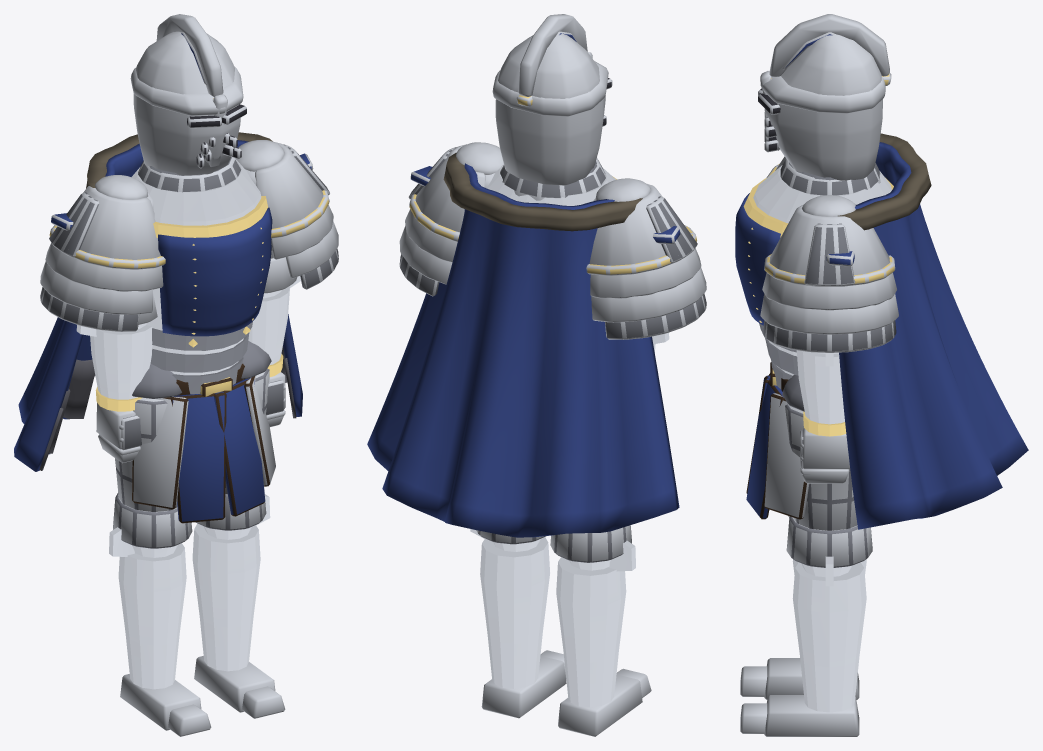
File: knight_warden.glb
3 views of the same model, side by side, from view 1: azimuth 30°, elevation 25°; view 2: azimuth 150°, elevation 25°; view 3: azimuth 270°, elevation 25° (orthographic). The views are drawn at different scales.
Parts seen in each view (by area): view 1: M_Torso, M_Head, M_Hips, M_ArmR_Upper, M_Cloak, M_ArmL_Upper, M_LegR_Lower, M_LegL_Lower, M_LegR_Upper, M_ArmR_Lower, M_FootR, M_FootL (+4 smaller); view 2: M_Cloak, M_Head, M_ArmR_Upper, M_LegR_Lower, M_LegL_Lower, M_ArmL_Upper, M_FootR, M_FootL, M_LegR_Upper, M_Torso; view 3: M_Cloak, M_Head, M_ArmL_Upper, M_LegL_Lower, M_Torso, M_LegL_Upper, M_Hips, M_FootL, M_ArmL_Lower, M_HandL, M_FootR.
Part boxes in pixels (x1=…): M_Torso: x1=131, y1=158, x2=272, y2=394; M_Head: x1=130, y1=14, x2=246, y2=192; M_Hips: x1=132, y1=363, x2=275, y2=523; M_ArmR_Upper: x1=40, y1=175, x2=165, y2=331; M_Cloak: x1=14, y1=132, x2=302, y2=471; M_ArmL_Upper: x1=235, y1=140, x2=338, y2=293; M_LegR_Lower: x1=109, y1=527, x2=186, y2=689; M_LegL_Lower: x1=192, y1=494, x2=270, y2=671; M_LegR_Upper: x1=113, y1=363, x2=192, y2=548; M_ArmR_Lower: x1=76, y1=323, x2=152, y2=411; M_FootR: x1=120, y1=674, x2=211, y2=736; M_FootL: x1=194, y1=656, x2=285, y2=718; M_Cloak: x1=367, y1=152, x2=679, y2=537; M_Head: x1=492, y1=14, x2=612, y2=200; M_ArmR_Upper: x1=586, y1=178, x2=706, y2=339; M_LegR_Lower: x1=556, y1=540, x2=635, y2=707; M_LegL_Lower: x1=470, y1=529, x2=549, y2=688; M_ArmL_Upper: x1=399, y1=142, x2=503, y2=296; M_FootR: x1=558, y1=668, x2=651, y2=736; M_FootL: x1=481, y1=650, x2=566, y2=718; M_LegR_Upper: x1=550, y1=525, x2=631, y2=562; M_Torso: x1=486, y1=162, x2=616, y2=205; M_Cloak: x1=838, y1=133, x2=1028, y2=529; M_Head: x1=758, y1=14, x2=891, y2=195; M_ArmL_Upper: x1=760, y1=195, x2=898, y2=352; M_LegL_Lower: x1=792, y1=556, x2=866, y2=712; M_Torso: x1=735, y1=165, x2=893, y2=389; M_LegL_Upper: x1=782, y1=374, x2=872, y2=567; M_Hips: x1=746, y1=362, x2=809, y2=519; M_FootL: x1=740, y1=695, x2=859, y2=736; M_ArmL_Lower: x1=796, y1=350, x2=846, y2=436; M_HandL: x1=800, y1=428, x2=849, y2=483; M_FootR: x1=740, y1=658, x2=859, y2=699.
Bounding box in the file's own units: 0.8632 × 1.92 × 0.7378.
